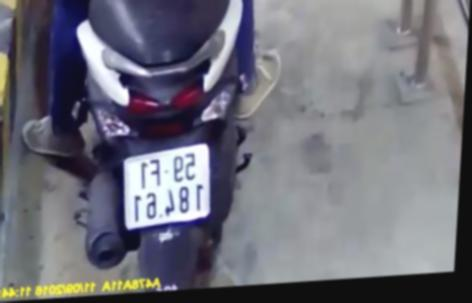License_Plate: (114, 139, 223, 238)
